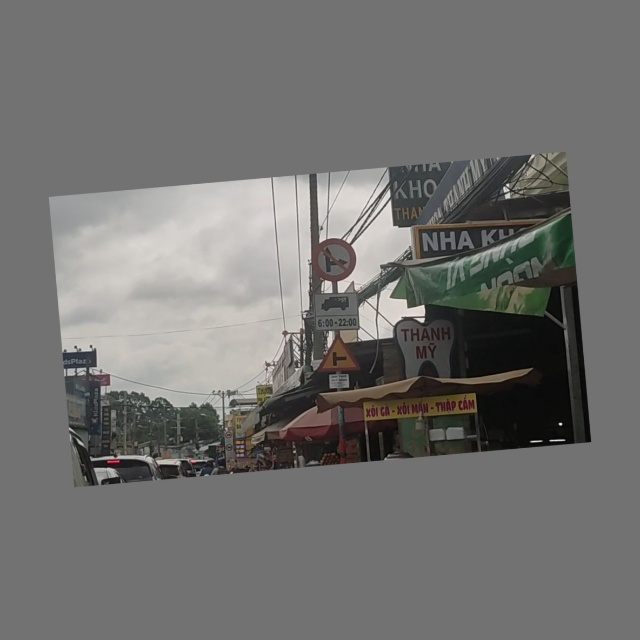P.139: (303, 229, 364, 291)
S.505a*Xe tai: (307, 284, 367, 341)
W.205b: (312, 328, 367, 381)
